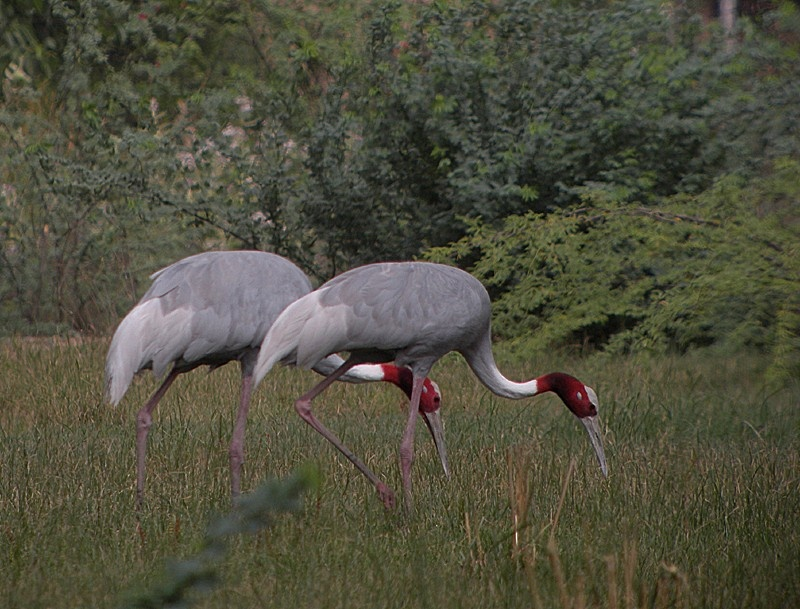crane: (269, 252, 621, 506), (101, 242, 458, 483)
